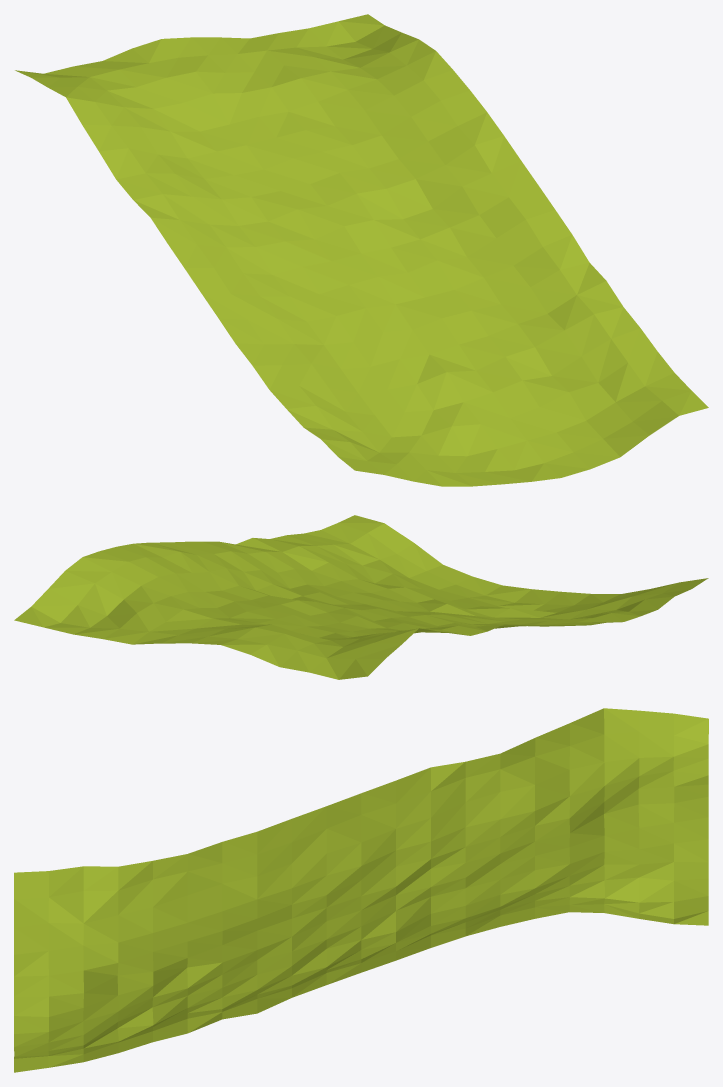
Rendered from Terrain_B.fbx.
3 renders of one model, top to bottom at view 1: azimuth 30°, elevation 25°; view 2: azimuth 150°, elevation 25°; view 3: azimuth 270°, elevation 25°, orthographic.
Parts seen in each view (by area): view 1: Terrain B; view 2: Terrain B; view 3: Terrain B.
Boxes of the visible parts, x1,y1,x2,y2 form: Terrain B: (15, 14, 708, 486); Terrain B: (14, 515, 708, 679); Terrain B: (14, 708, 708, 1072).
Size of the model in its own units: 1201 by 710 by 2001.
